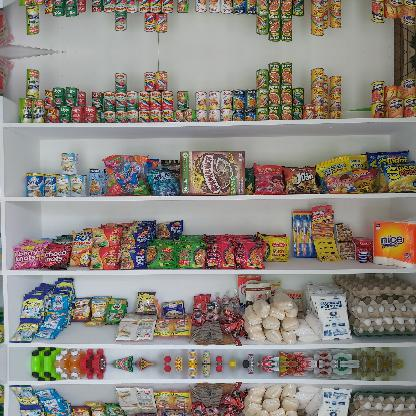Koko-Krunch: (180, 151, 244, 195)
